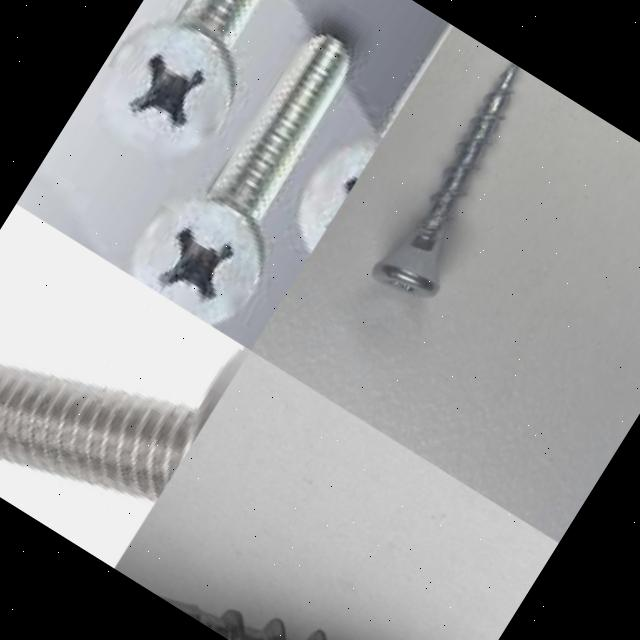Screw: (113, 456, 491, 640), (135, 30, 350, 324), (0, 344, 250, 501), (371, 62, 518, 299), (103, 0, 263, 161)
